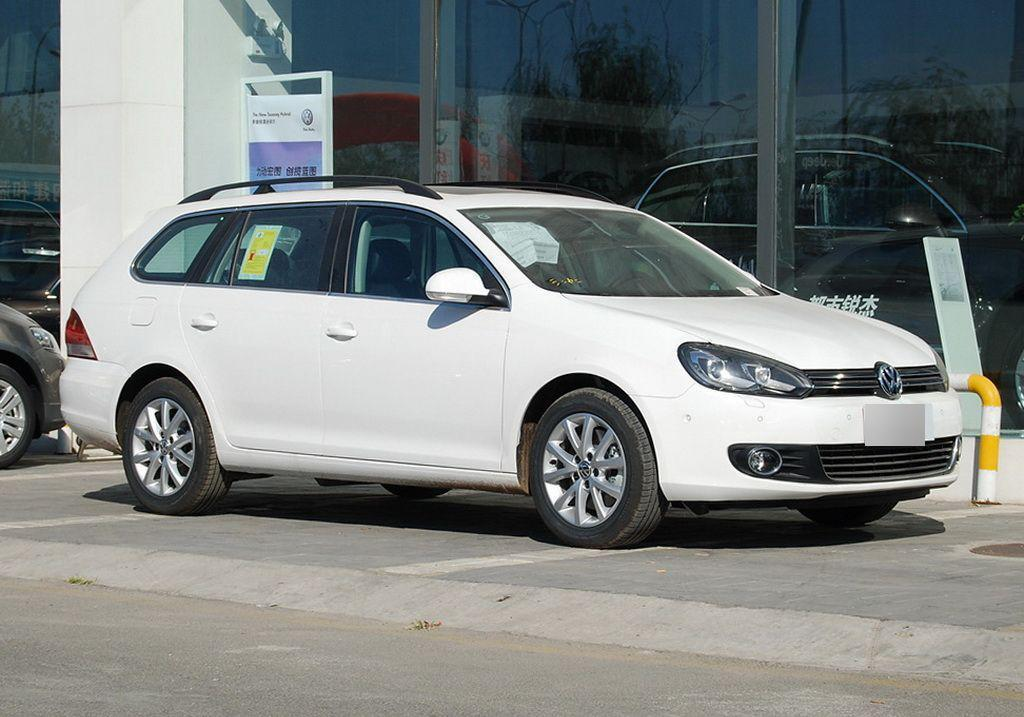Wagon: (58, 176, 965, 548)
